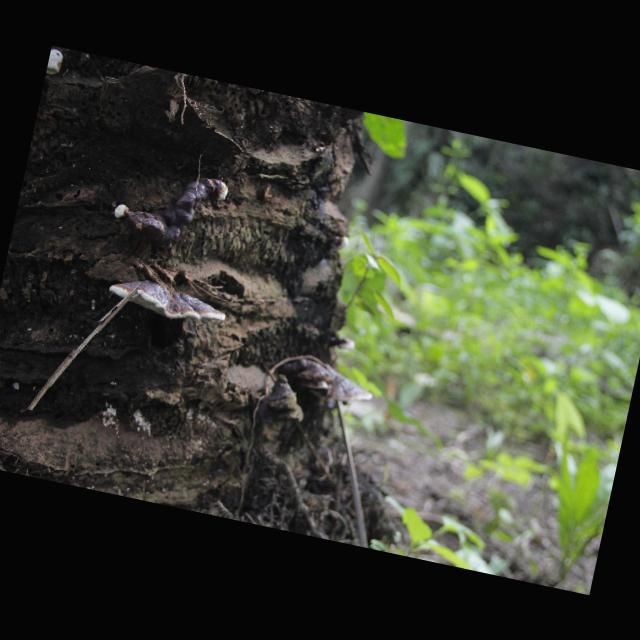ganoderma: (124, 162, 218, 256), (105, 272, 231, 332), (308, 362, 379, 410), (278, 355, 336, 395), (328, 334, 357, 355)
primordium: (46, 48, 66, 78), (212, 180, 231, 205), (329, 234, 350, 253), (113, 202, 131, 222)
